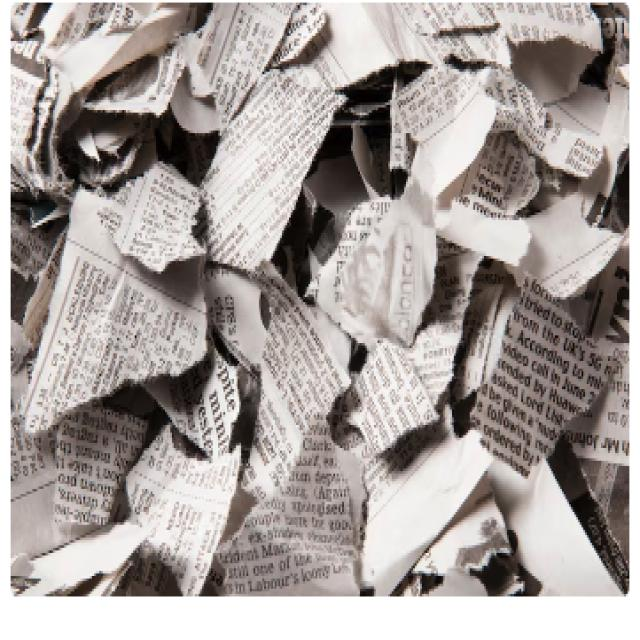Koran: (10, 0, 628, 594)
